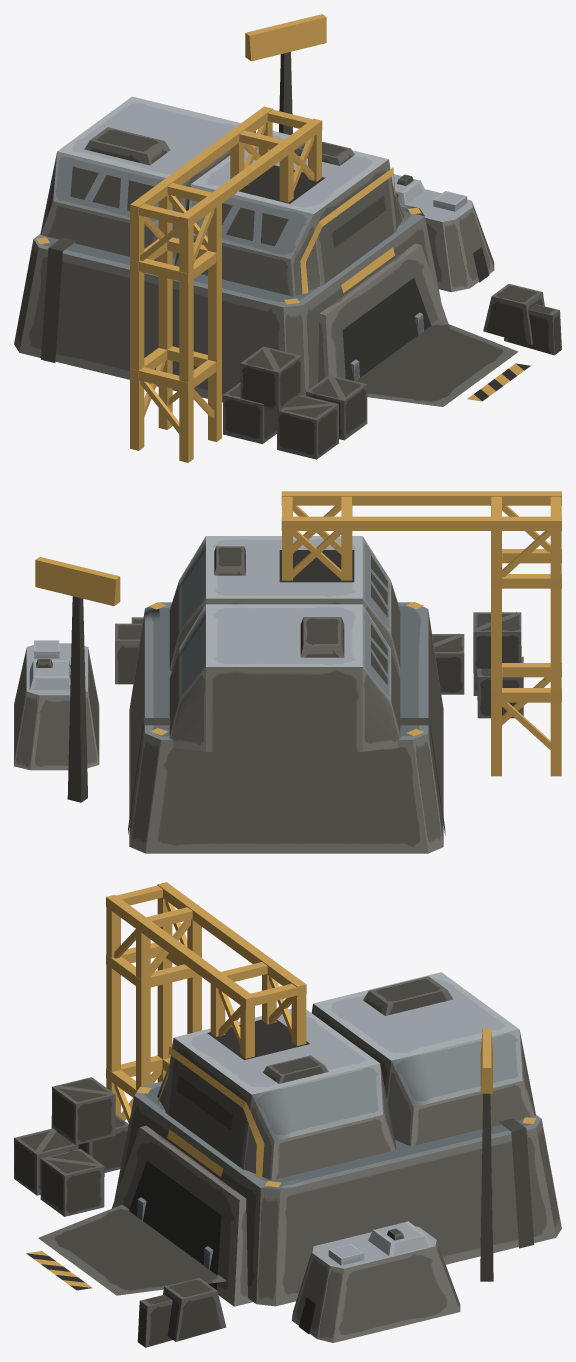
File: warehouse3.FBX
The picture shows the model from 3 angles, top to bottom: view 1: azimuth 30°, elevation 25°; view 2: azimuth 150°, elevation 25°; view 3: azimuth 270°, elevation 25°; orthographic projection. The views are drawn at different scales.
Visible parts, largest first — view 1: Warehouse_lv3, b, a; view 2: Warehouse_lv3, b, a; view 3: Warehouse_lv3, a, b.
Boxes of the visible parts, x1=… form: Warehouse_lv3: x1=14, y1=52, x2=561, y2=462; b: x1=245, y1=14, x2=326, y2=61; a: x1=294, y1=141, x2=354, y2=165; Warehouse_lv3: x1=14, y1=491, x2=561, y2=853; b: x1=35, y1=557, x2=120, y2=605; a: x1=214, y1=546, x2=245, y2=575; Warehouse_lv3: x1=14, y1=882, x2=561, y2=1347; a: x1=263, y1=1055, x2=328, y2=1083; b: x1=480, y1=1028, x2=492, y2=1093.
Size of the model in its own units: 157 by 161 by 82.5.
